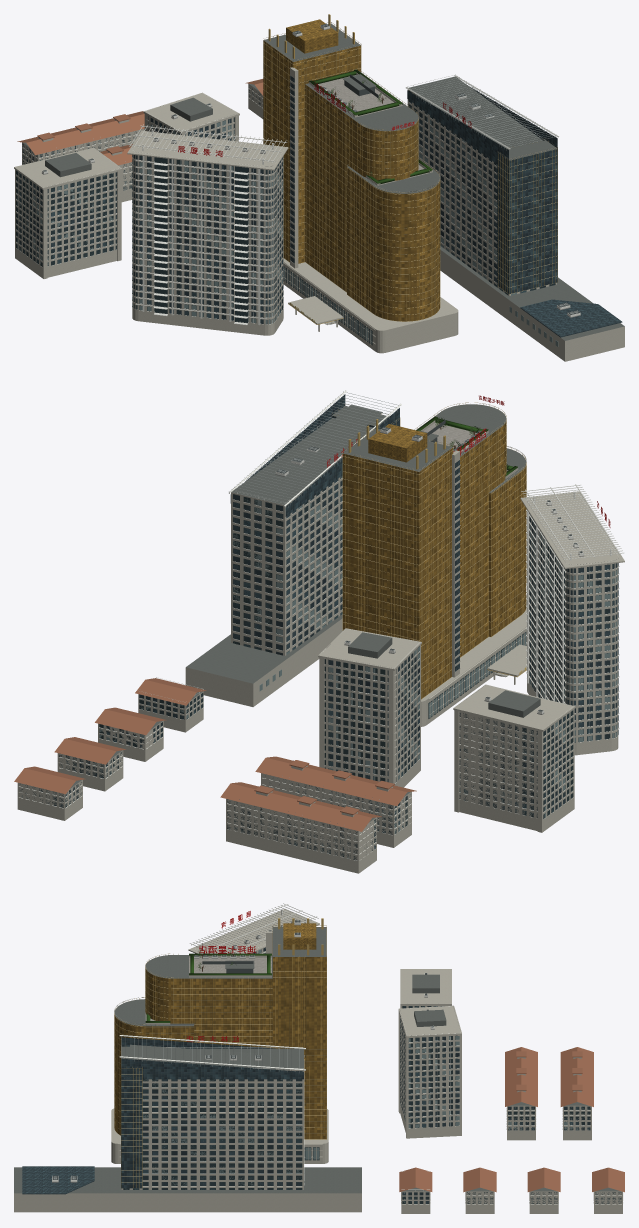
3 renders of one model, top to bottom at view 1: azimuth 30°, elevation 25°; view 2: azimuth 150°, elevation 25°; view 3: azimuth 270°, elevation 25°, orthographic. The views are drawn at different scales.
Parts seen in each view (by area): view 1: Dubai7_Building_Block; view 2: Dubai7_Building_Block; view 3: Dubai7_Building_Block.
Part boxes in pixels (<box>): Dubai7_Building_Block: <box>14,14,624,361</box>; Dubai7_Building_Block: <box>14,390,624,873</box>; Dubai7_Building_Block: <box>14,903,624,1213</box>.
Bounding box in the file's own units: 187 × 115 × 295.
Materials: 22 (12 with a texture image).
